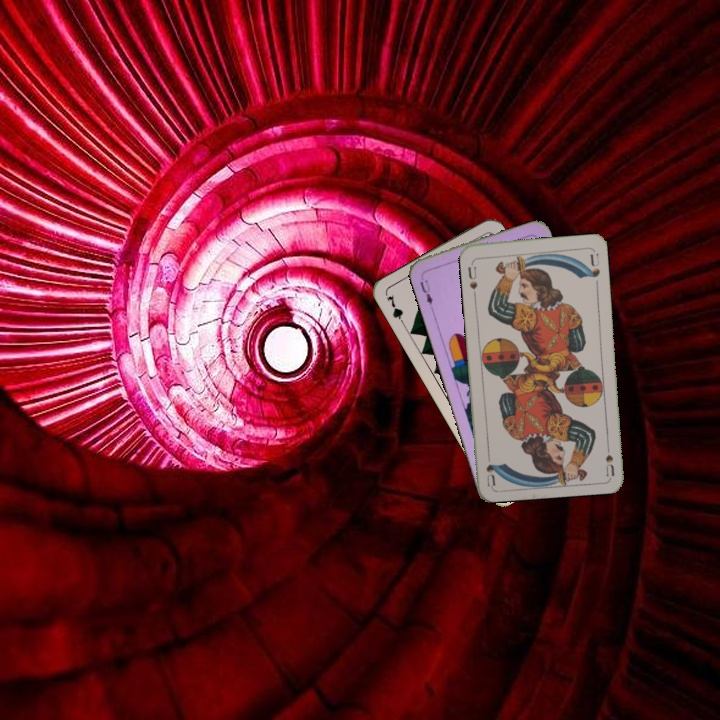EU: (416, 271, 436, 311)
G7: (382, 290, 408, 329)
SU: (601, 437, 617, 477), (464, 258, 480, 292)
